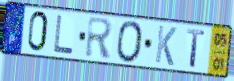0: (26, 10, 50, 54)
K: (154, 24, 178, 68)
L: (52, 14, 75, 56)
O: (116, 19, 145, 64)
R: (84, 16, 115, 60)
T: (186, 28, 207, 70)
